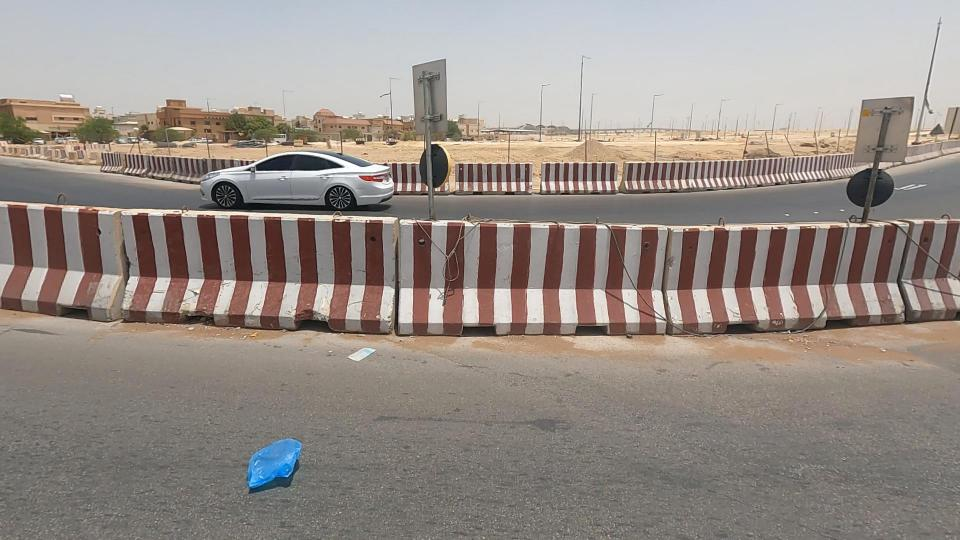CONSTRUCTION_ROAD: (262, 156, 960, 392), (0, 155, 433, 357), (565, 138, 856, 191), (73, 121, 245, 198), (414, 139, 625, 201)
GARBAGE: (185, 415, 359, 532), (316, 330, 404, 388)
